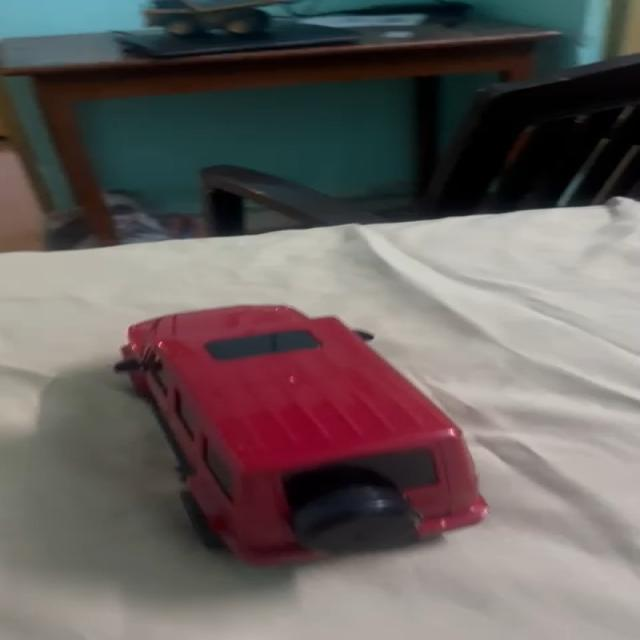light_vehicle: (109, 300, 497, 561)
